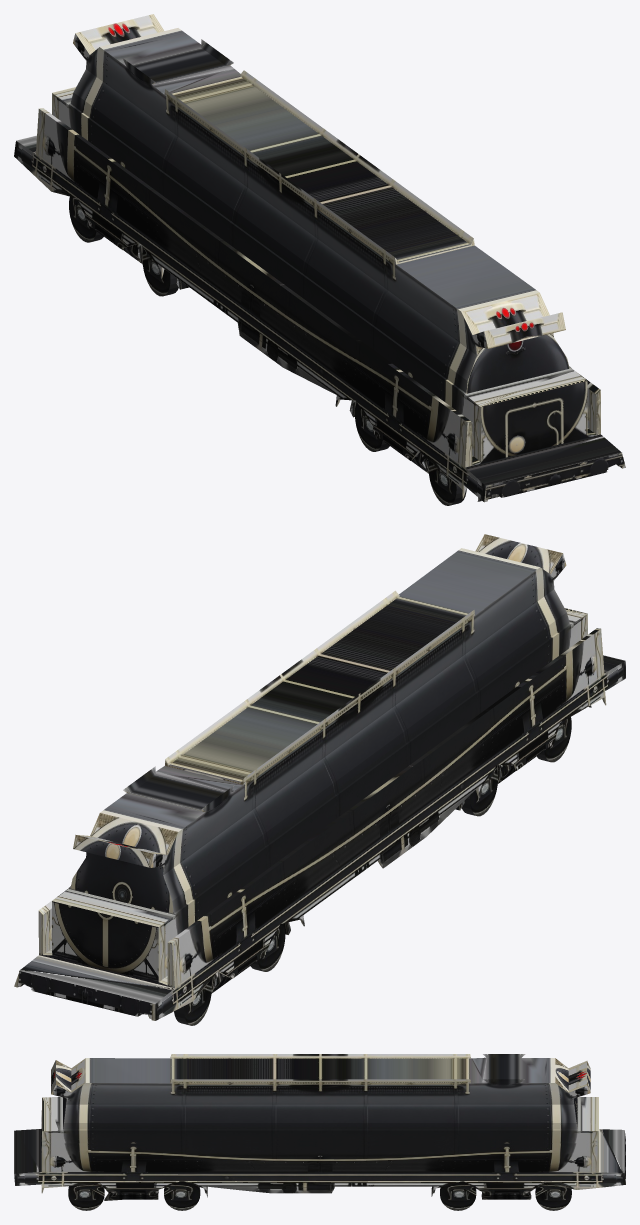
File: tank_car.glb
3 renders of one model, top to bottom at view 1: azimuth 30°, elevation 25°; view 2: azimuth 150°, elevation 25°; view 3: azimuth 270°, elevation 25°, orthographic. The views are drawn at different scales.
Parts seen in each view (by area): view 1: tank_car, wheel_BL, wheel_M1L, wheel_FL, wheel_M2L; view 2: tank_car, wheel_M2L, wheel_FL, wheel_M1L, wheel_BL; view 3: tank_car, wheel_M2R, wheel_M1R, wheel_BR, wheel_FR.
Boxes of the visible parts, x1,y1,x2,y2 form: tank_car: [14, 14, 625, 502]; wheel_BL: [428, 460, 466, 505]; wheel_M1L: [142, 249, 178, 296]; wheel_FL: [69, 196, 103, 242]; wheel_M2L: [355, 402, 389, 451]; tank_car: [14, 534, 625, 1020]; wheel_M2L: [462, 767, 497, 816]; wheel_FL: [174, 980, 211, 1025]; wheel_M1L: [250, 923, 285, 971]; wheel_BL: [537, 717, 571, 762]; tank_car: [14, 1054, 625, 1200]; wheel_M2R: [164, 1180, 200, 1210]; wheel_M1R: [440, 1181, 476, 1210]; wheel_BR: [68, 1183, 104, 1210]; wheel_FR: [535, 1182, 571, 1210].
Bounding box in the file's own units: 3.16 × 4.09 × 17.98.
3 materials, 1 textured.
